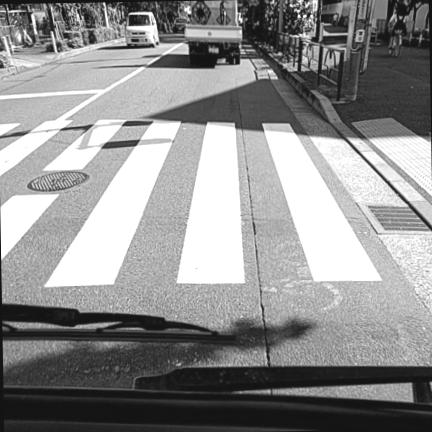Road: (0, 36, 431, 387)
